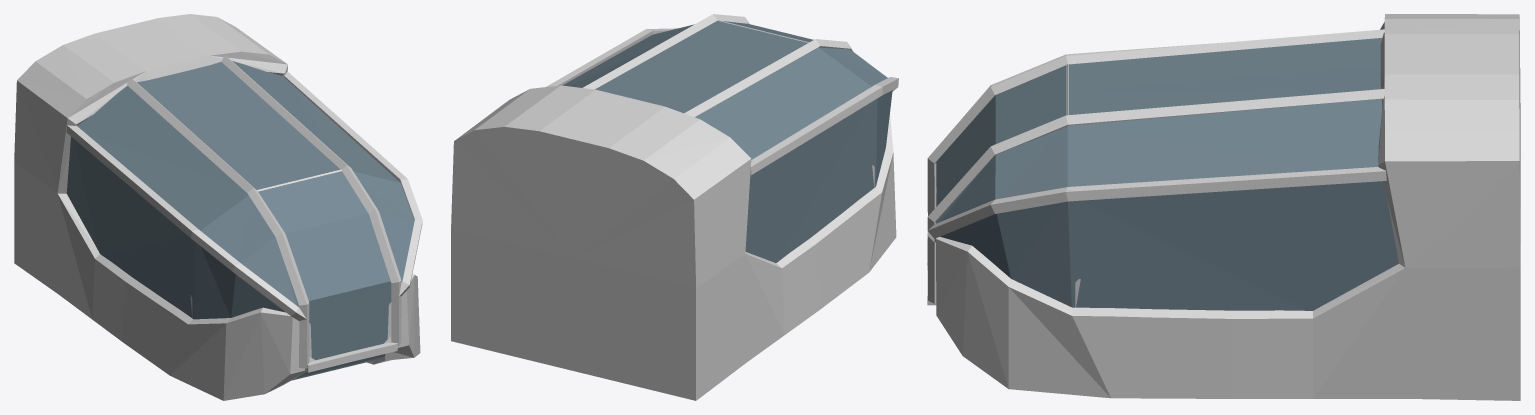
The model's file is cockpit.glb.
3 renders of one model, left to right at view 1: azimuth 30°, elevation 25°; view 2: azimuth 150°, elevation 25°; view 3: azimuth 270°, elevation 25°, orthographic. The views are drawn at different scales.
Visible parts, largest first — view 1: Group1.002, Group.002; view 2: Group.002, Group1.002; view 3: Group.002, Group1.002.
Boxes of the visible parts, left/top/right/bottom form: Group1.002: left=66, top=61, right=414, bottom=380; Group.002: left=14, top=14, right=422, bottom=400; Group.002: left=451, top=14, right=898, bottom=400; Group1.002: left=562, top=21, right=892, bottom=262; Group.002: left=927, top=14, right=1520, bottom=400; Group1.002: left=935, top=38, right=1398, bottom=310.
Bounding box in the file's own units: 3.87 × 3.42 × 6.69.
